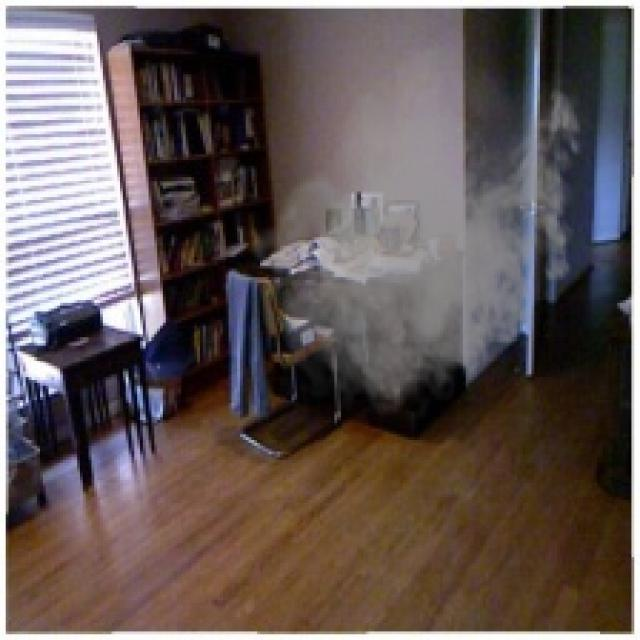smoke: (248, 23, 592, 428)
